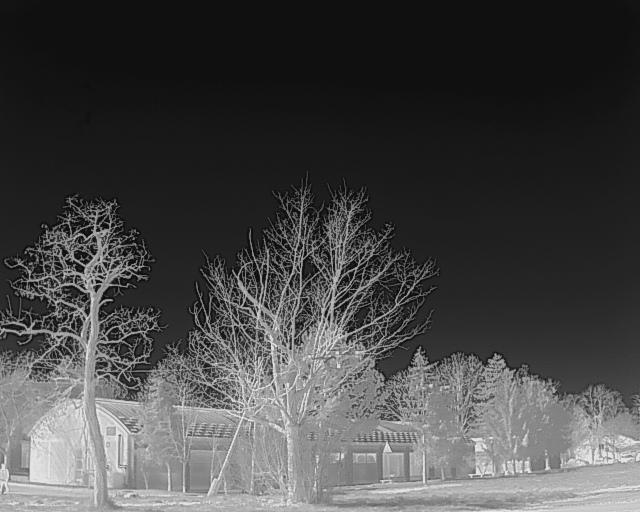drone: (298, 346, 367, 374)
